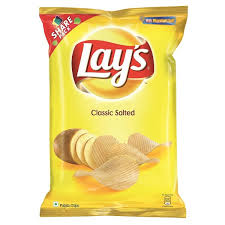lays-med: (40, 9, 182, 216)
